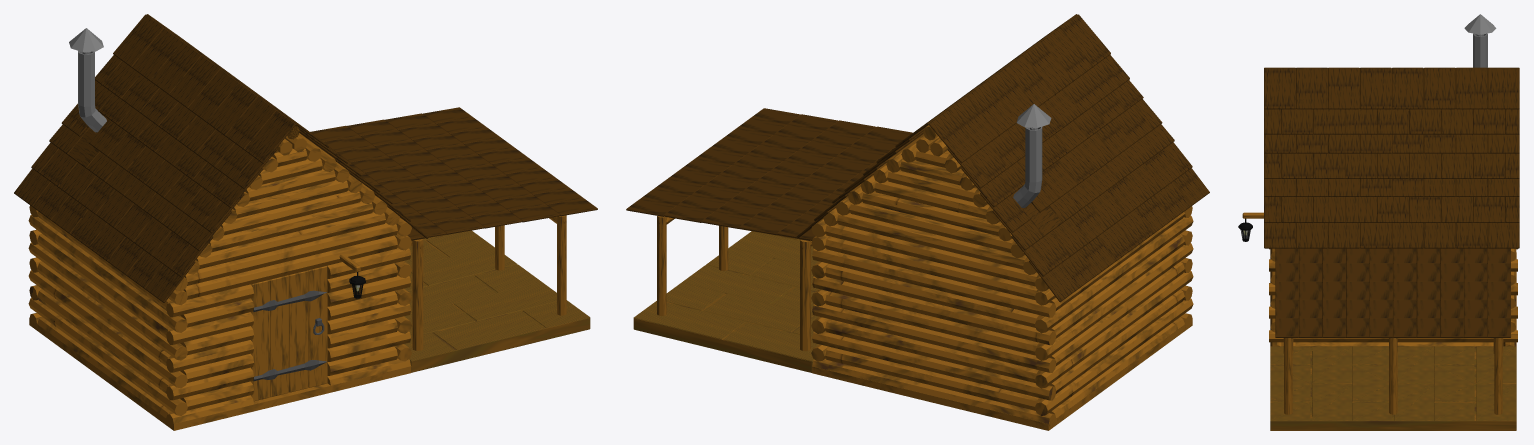
The model's file is wooden_cabin.glb.
3 renders of one model, left to right at view 1: azimuth 30°, elevation 25°; view 2: azimuth 150°, elevation 25°; view 3: azimuth 270°, elevation 25°, orthographic. The views are drawn at different scales.
Visible parts, largest first — view 1: Cylinder, Cube, Cube.005, Cylinder.001, Cylinder.008, Cube.001, Cylinder.005, Cylinder.006, Cylinder.002, Cube.003; view 2: Cylinder, Cube, Cube.005, Cylinder.001, Cylinder.008, Cylinder.005, Cylinder.006, Cylinder.002; view 3: Cube, Cube.005, Cylinder.008, Cylinder.006, Cylinder, Cylinder.005, Cylinder.002.
Part boxes in pixels (<box>): Cylinder: <box>28,151,411,430</box>; Cube: <box>14,14,428,302</box>; Cube.005: <box>310,107,597,240</box>; Cylinder.001: <box>188,126,399,274</box>; Cylinder.008: <box>404,230,589,361</box>; Cube.001: <box>251,266,327,401</box>; Cylinder.005: <box>411,215,566,350</box>; Cylinder.006: <box>408,234,590,372</box>; Cylinder.002: <box>69,28,106,132</box>; Cube.003: <box>253,290,326,381</box>; Cylinder: <box>811,150,1193,430</box>; Cube: <box>796,14,1209,302</box>; Cube.005: <box>626,108,912,240</box>; Cylinder.001: <box>823,125,1036,274</box>; Cylinder.008: <box>633,231,818,361</box>; Cylinder.005: <box>657,216,812,351</box>; Cylinder.006: <box>633,235,815,372</box>; Cylinder.002: <box>1013,104,1051,207</box>; Cube: <box>1264,67,1519,248</box>; Cube.005: <box>1275,248,1510,337</box>; Cylinder.008: <box>1270,346,1516,420</box>; Cylinder.006: <box>1270,346,1516,430</box>; Cylinder: <box>1269,248,1517,346</box>; Cylinder.005: <box>1283,337,1503,414</box>; Cylinder.002: <box>1464,14,1496,67</box>.
Bounding box in the file's own units: 140 × 92.18 × 90.72.
10 materials, 6 textured.
